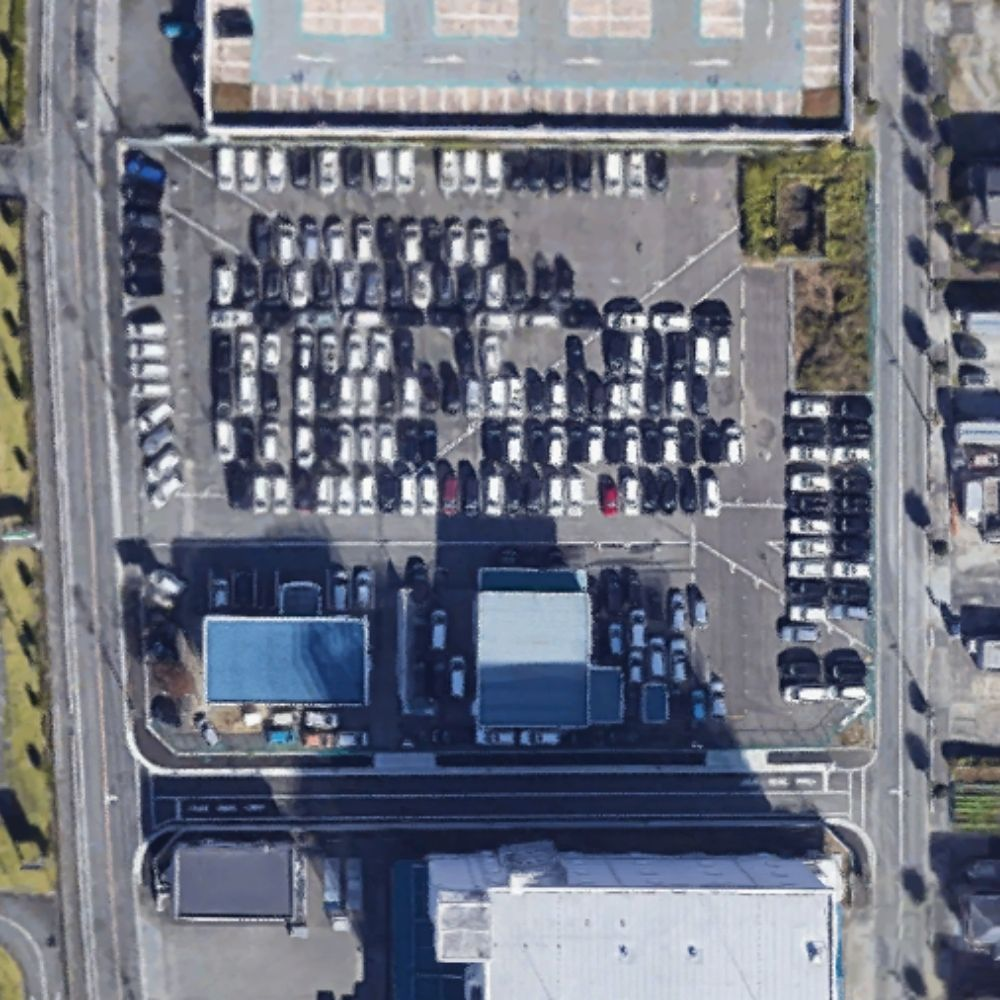parking: (120, 140, 870, 750)
